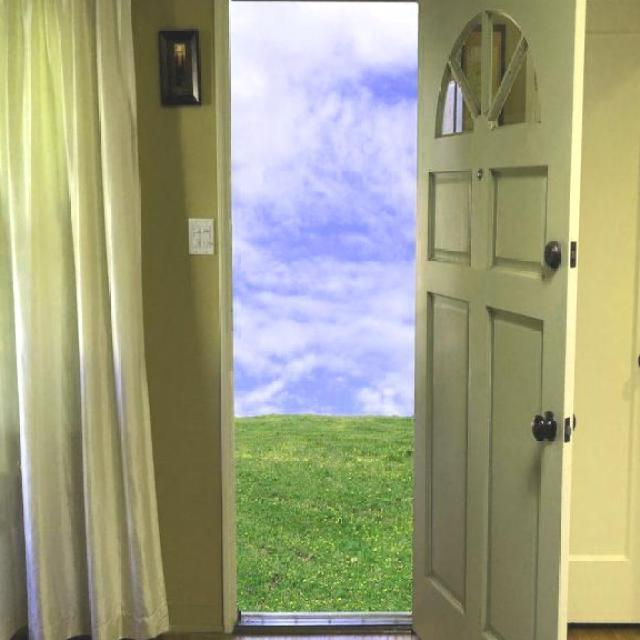door: (410, 0, 581, 639)
